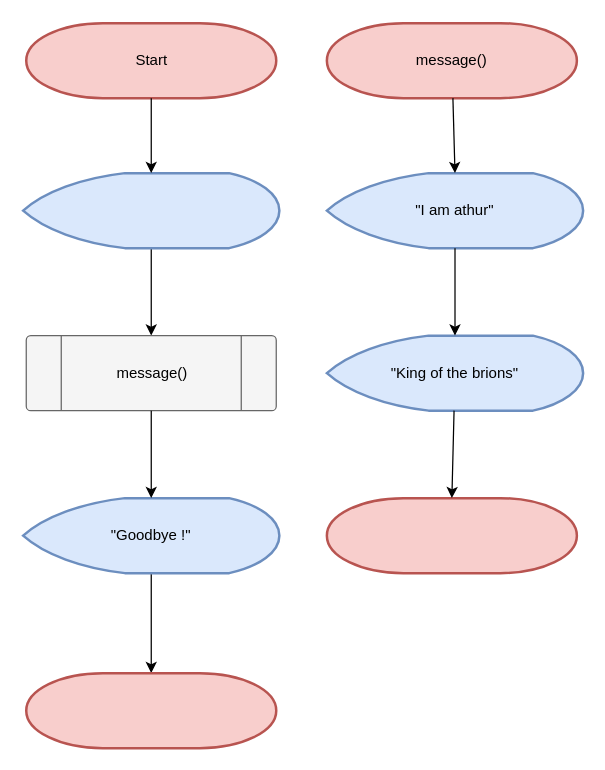
Some shapes in this 605 by 770 pixel diagram are drawn without their labels. The centre of each missing label's shape, as x and y in pixels:
"I have a message for you.": pixel 150 210
Return: pixel 451 535
Stop: pixel 150 710
